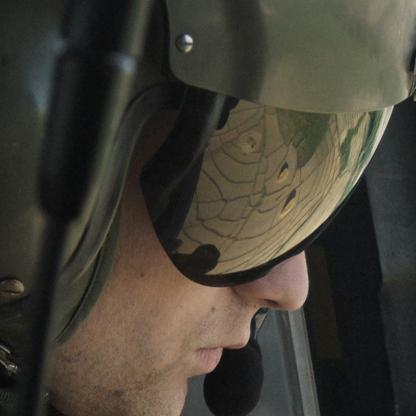Helmet: (24, 5, 394, 337)
